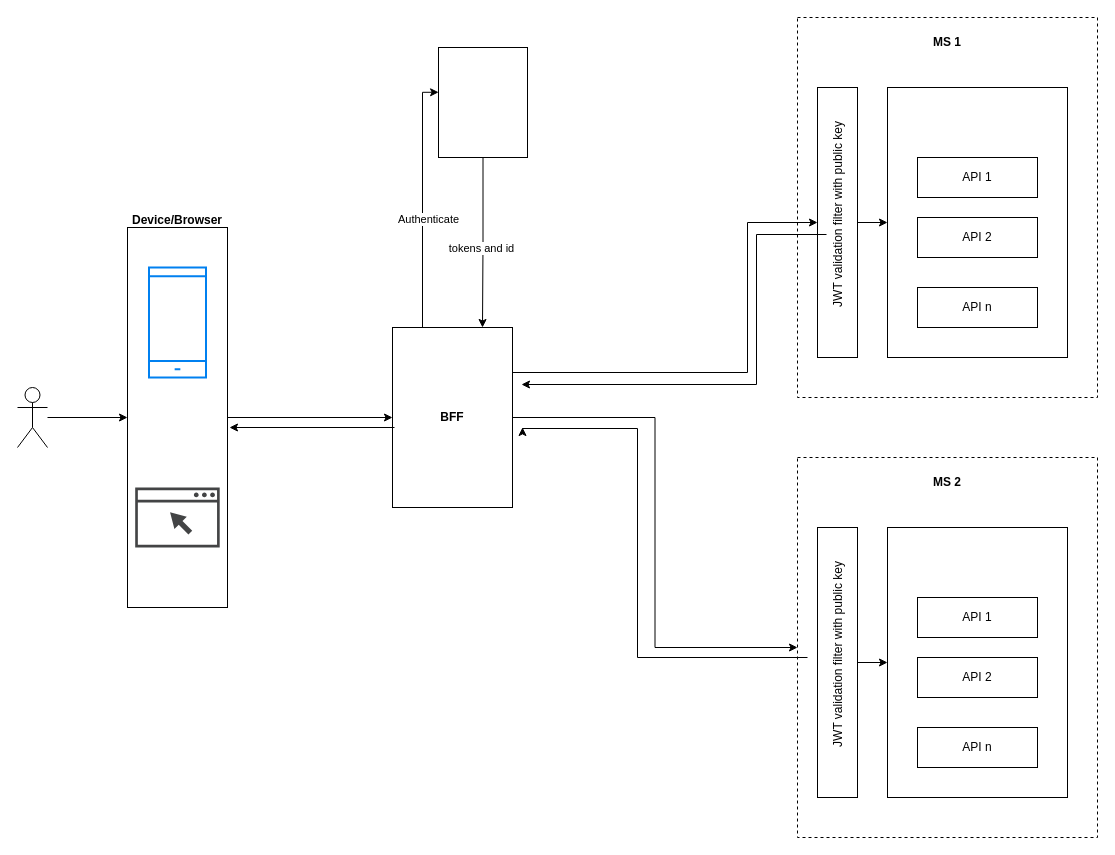
Image size: 1115x855. Some labels were removed from this diagram. The centre of each missing label's shape, as x and y in pixels:
Authorization Server: (x=483, y=102)
User: (x=32, y=417)
